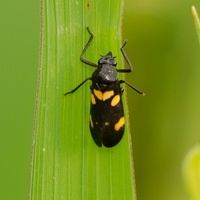insect: (64, 27, 143, 146)
